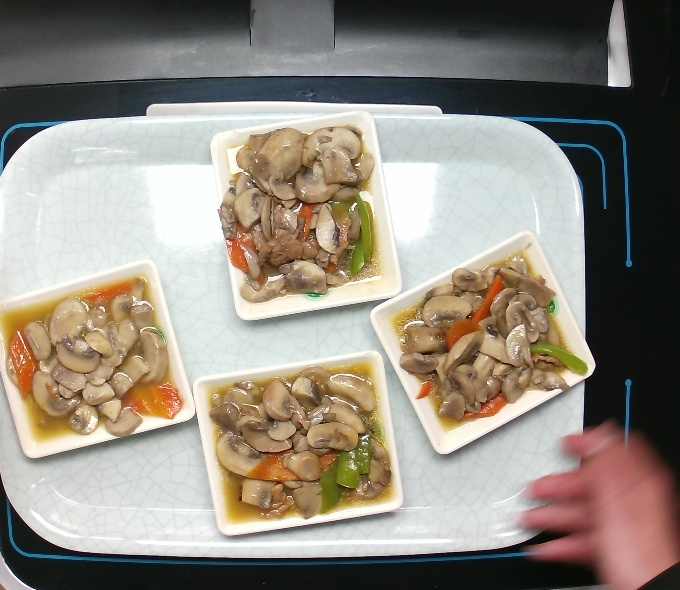wcq-HouTouGuChaoRou: (387, 240, 589, 436), (219, 122, 388, 318), (3, 278, 189, 450), (204, 369, 403, 529)
